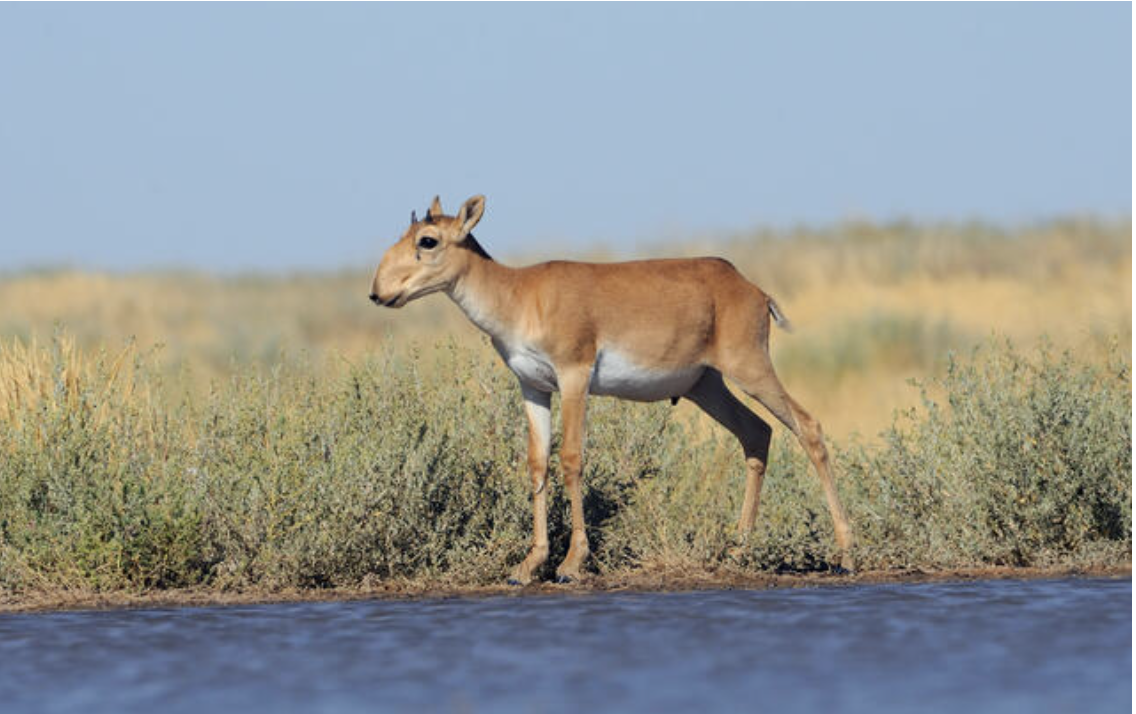saiga: (356, 176, 865, 585)
